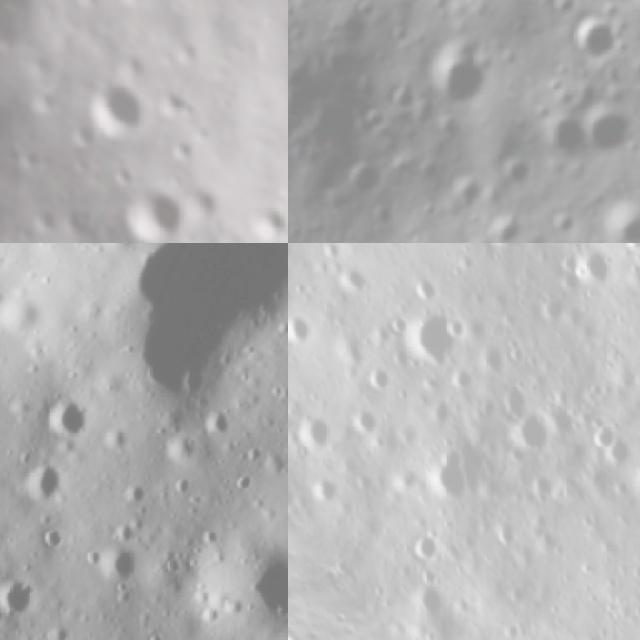crater: (78, 243, 288, 433), (185, 506, 288, 640), (398, 297, 483, 382), (422, 33, 500, 121), (415, 438, 493, 518), (32, 380, 104, 451), (2, 441, 75, 510), (568, 95, 640, 163), (559, 3, 628, 72), (127, 179, 194, 243), (87, 529, 152, 594), (505, 402, 568, 466), (538, 108, 597, 172), (84, 78, 143, 140), (536, 386, 596, 446), (402, 575, 460, 636), (0, 565, 47, 633), (154, 422, 210, 478), (442, 166, 502, 218), (288, 404, 342, 459), (575, 243, 629, 298), (486, 142, 539, 197), (328, 253, 380, 305), (345, 153, 396, 206), (591, 190, 640, 243), (330, 324, 380, 374), (300, 466, 348, 516), (493, 378, 540, 426), (196, 398, 244, 444), (342, 399, 388, 443), (471, 205, 524, 243), (599, 426, 640, 474), (404, 528, 446, 574), (360, 359, 402, 402), (584, 416, 626, 458), (152, 84, 195, 125), (29, 516, 72, 556), (247, 203, 288, 243), (288, 308, 321, 354), (97, 421, 134, 459), (441, 306, 477, 344), (254, 442, 288, 482), (117, 474, 153, 511), (478, 243, 545, 262), (165, 466, 202, 500), (228, 468, 265, 500), (27, 86, 60, 120), (116, 50, 152, 80), (156, 546, 188, 579), (39, 611, 74, 640), (172, 43, 205, 70), (625, 446, 640, 501), (168, 141, 199, 166), (32, 208, 58, 236), (319, 243, 351, 265), (21, 147, 47, 174), (69, 122, 93, 150), (112, 168, 141, 190), (91, 243, 140, 256), (120, 0, 166, 13), (76, 204, 97, 232), (193, 124, 211, 146), (102, 211, 123, 229), (167, 174, 187, 192), (114, 230, 138, 243), (73, 0, 102, 8)
